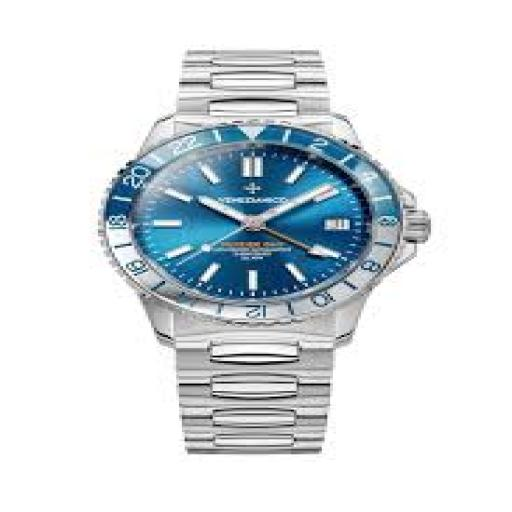KolSaati: (75, 30, 463, 478)
